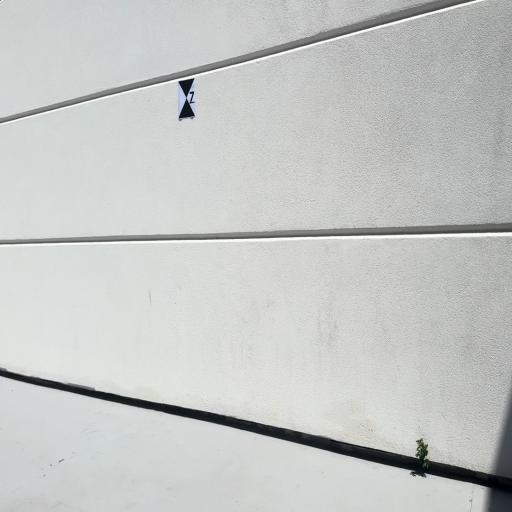target7: (178, 76, 196, 118)
